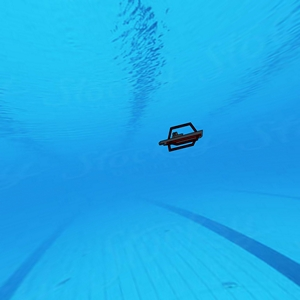submarine: (159, 121, 204, 152)
